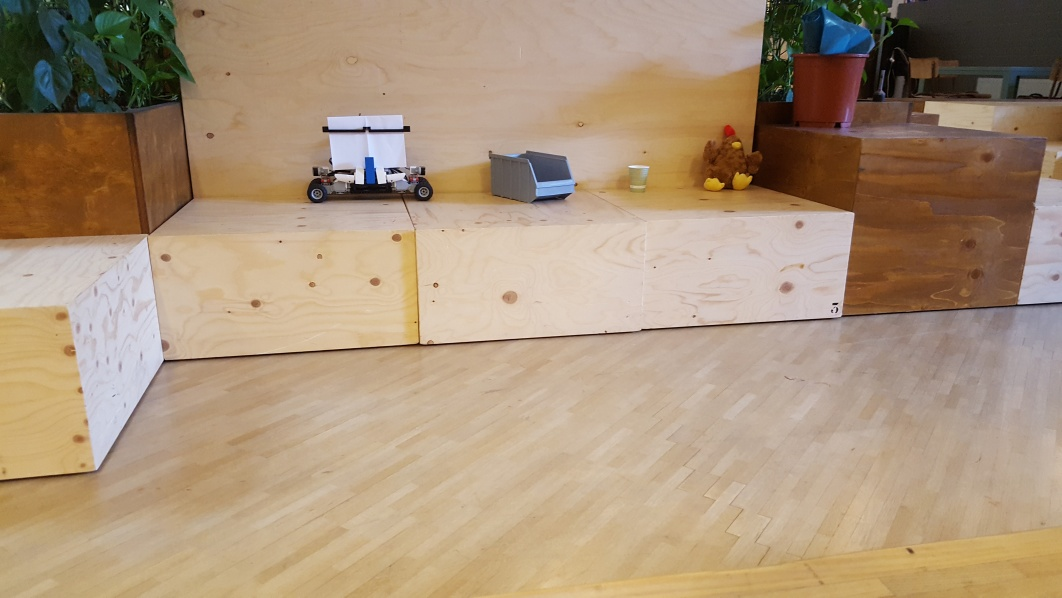car: (304, 114, 434, 202)
chicken: (702, 125, 763, 193)
cup: (627, 165, 650, 193)
tray: (486, 149, 577, 203)
